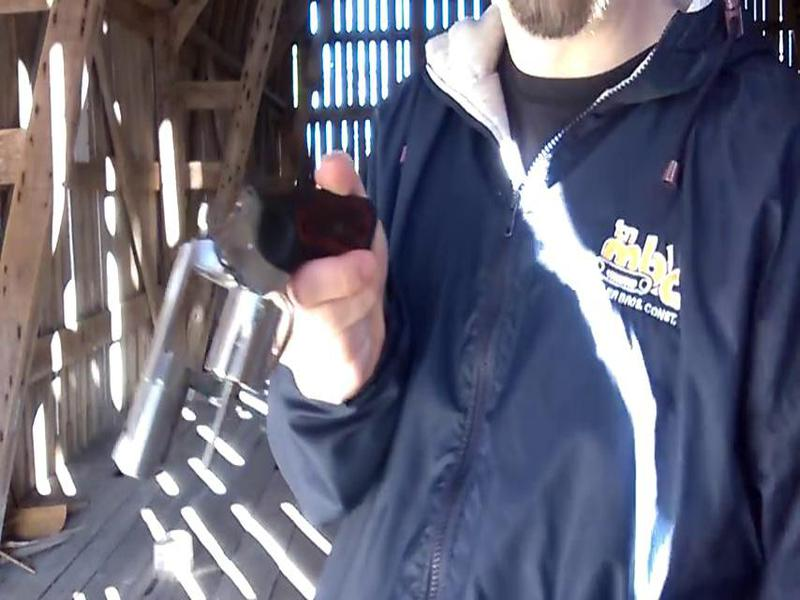Revolver: (109, 172, 393, 494)
